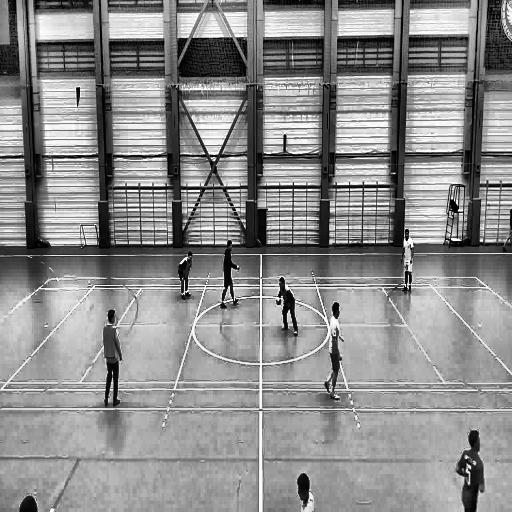ball: (276, 296, 282, 306)
player: (456, 429, 486, 512), (323, 301, 346, 403), (102, 308, 124, 410), (218, 239, 240, 311), (275, 276, 300, 338), (398, 229, 415, 295), (178, 250, 194, 302)
